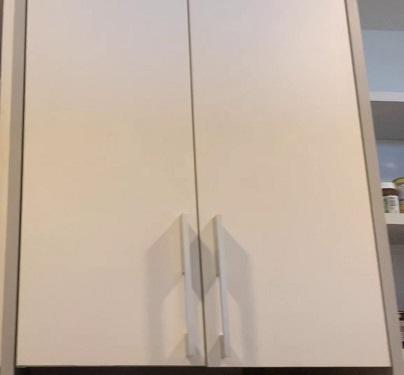cabinet_door: (19, 0, 195, 366), (197, 0, 360, 366)
handle: (210, 214, 235, 360), (178, 212, 198, 359)
